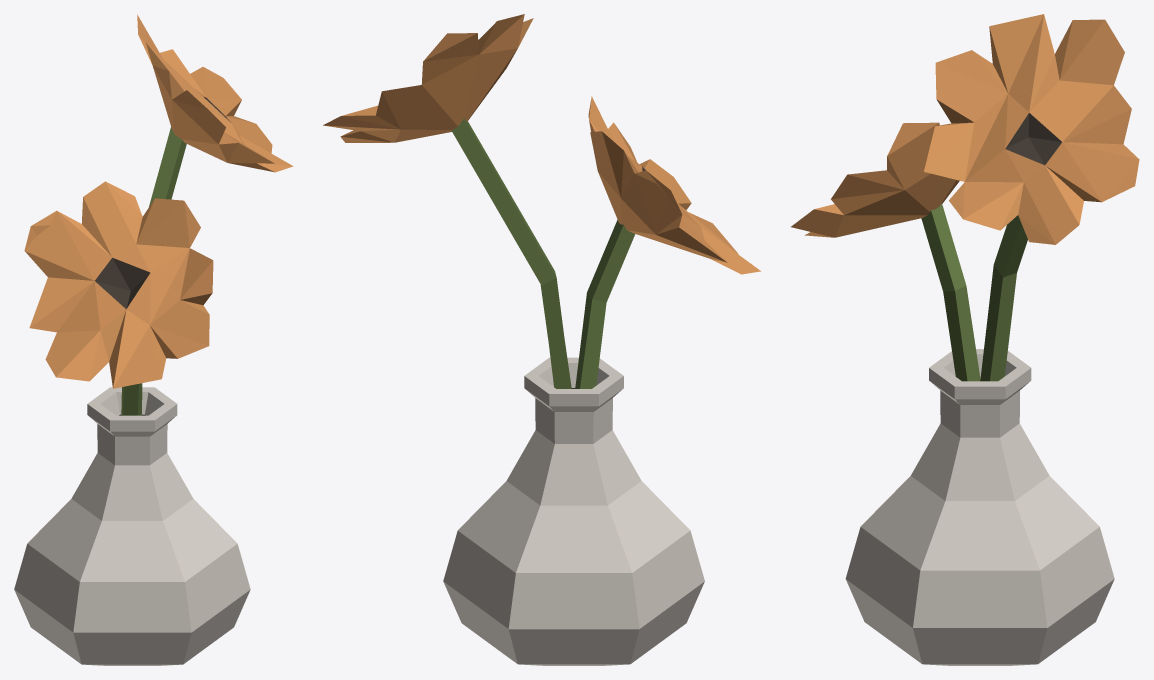
Rendered from SM_Prop_Flowers_03.fbx.
The picture shows the model from 3 angles, left to right: view 1: azimuth 30°, elevation 25°; view 2: azimuth 150°, elevation 25°; view 3: azimuth 270°, elevation 25°; orthographic projection. The views are drawn at different scales.
Parts seen in each view (by area): view 1: SM_Prop_Flowers_03; view 2: SM_Prop_Flowers_03; view 3: SM_Prop_Flowers_03.
Boxes of the visible parts, bbox=[...] form: SM_Prop_Flowers_03: bbox=[14, 14, 293, 665]; SM_Prop_Flowers_03: bbox=[323, 14, 760, 665]; SM_Prop_Flowers_03: bbox=[791, 14, 1139, 665].
Size of the model in its own units: 27.68 by 51.64 by 24.83.
